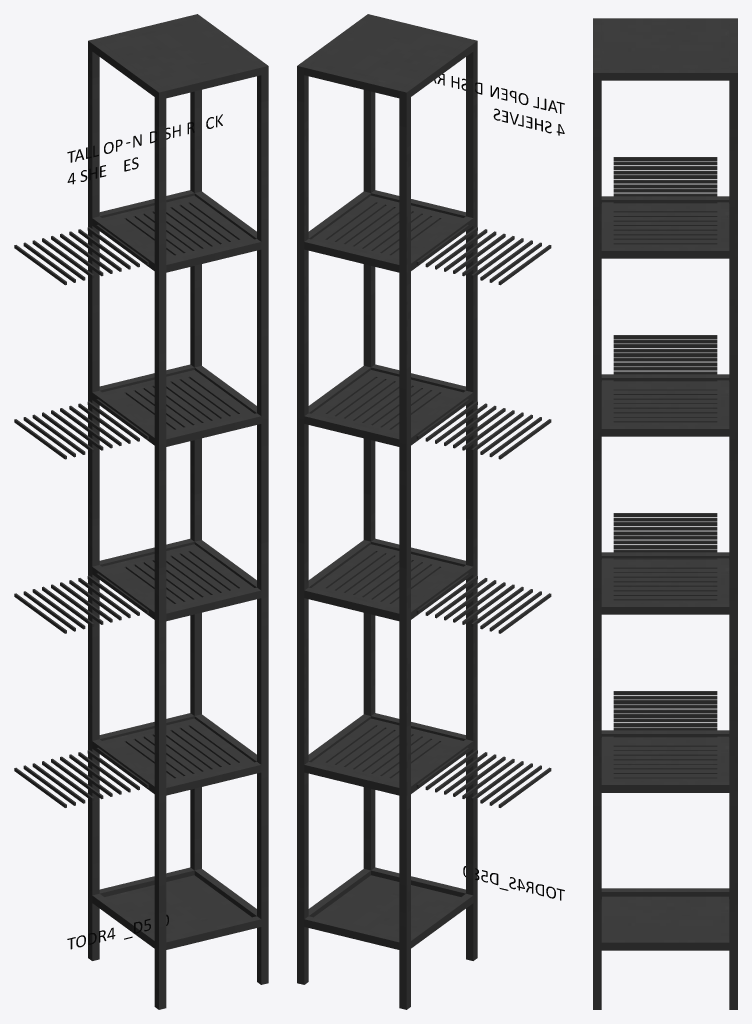
Rendered from TODR5S (H2040xW600xD580).glb.
The picture shows the model from 3 angles, left to right: view 1: azimuth 30°, elevation 25°; view 2: azimuth 150°, elevation 25°; view 3: azimuth 270°, elevation 25°; orthographic projection. The views are drawn at different scales.
Size of the model in its own units: 0.5448 by 2.4 by 0.336.
2 materials, 1 textured.
